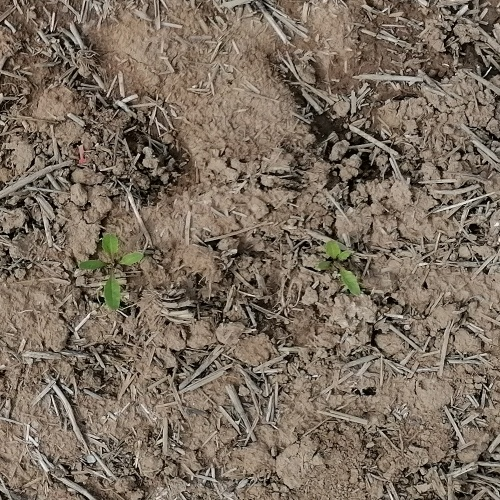beet: (79, 232, 143, 310), (319, 241, 359, 298)
